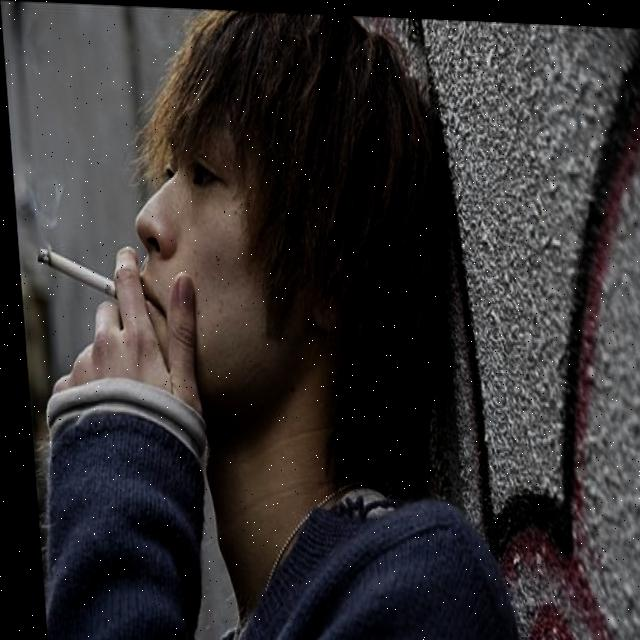cigarette: (33, 249, 112, 295)
